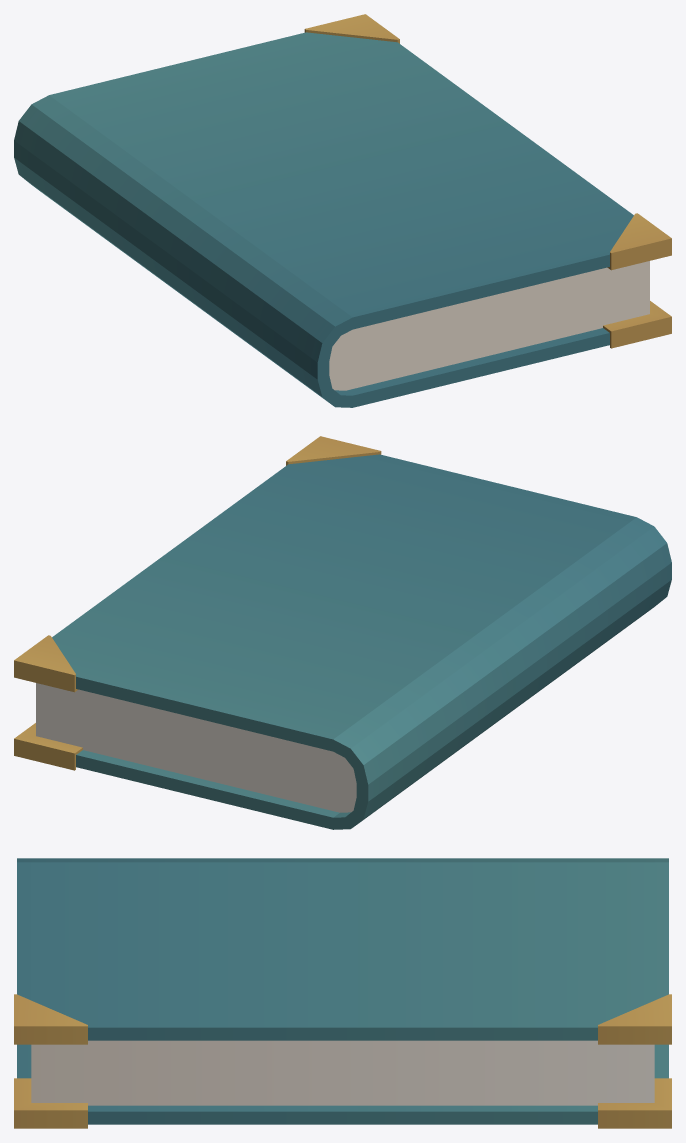
Rendered from SM_Book_05.fbx.
3 renders of one model, top to bottom at view 1: azimuth 30°, elevation 25°; view 2: azimuth 150°, elevation 25°; view 3: azimuth 270°, elevation 25°, orthographic. The views are drawn at different scales.
Visible parts, largest first — view 1: SM_Book_05; view 2: SM_Book_05; view 3: SM_Book_05.
Part boxes in pixels (left/top/right/bottom): SM_Book_05: left=14, top=14, right=671, bottom=407; SM_Book_05: left=14, top=436, right=671, bottom=829; SM_Book_05: left=14, top=858, right=671, bottom=1128.
Bounding box in the file's own units: 15.1 × 3.9 × 22.7.
